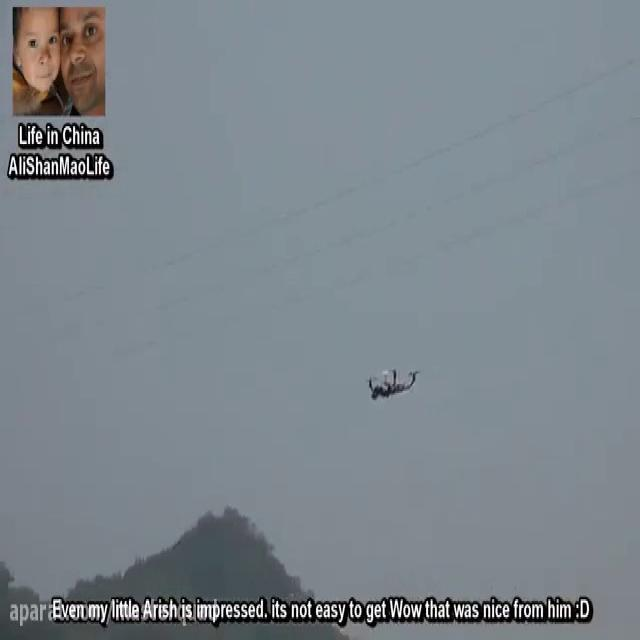drone: (363, 359, 420, 409)
